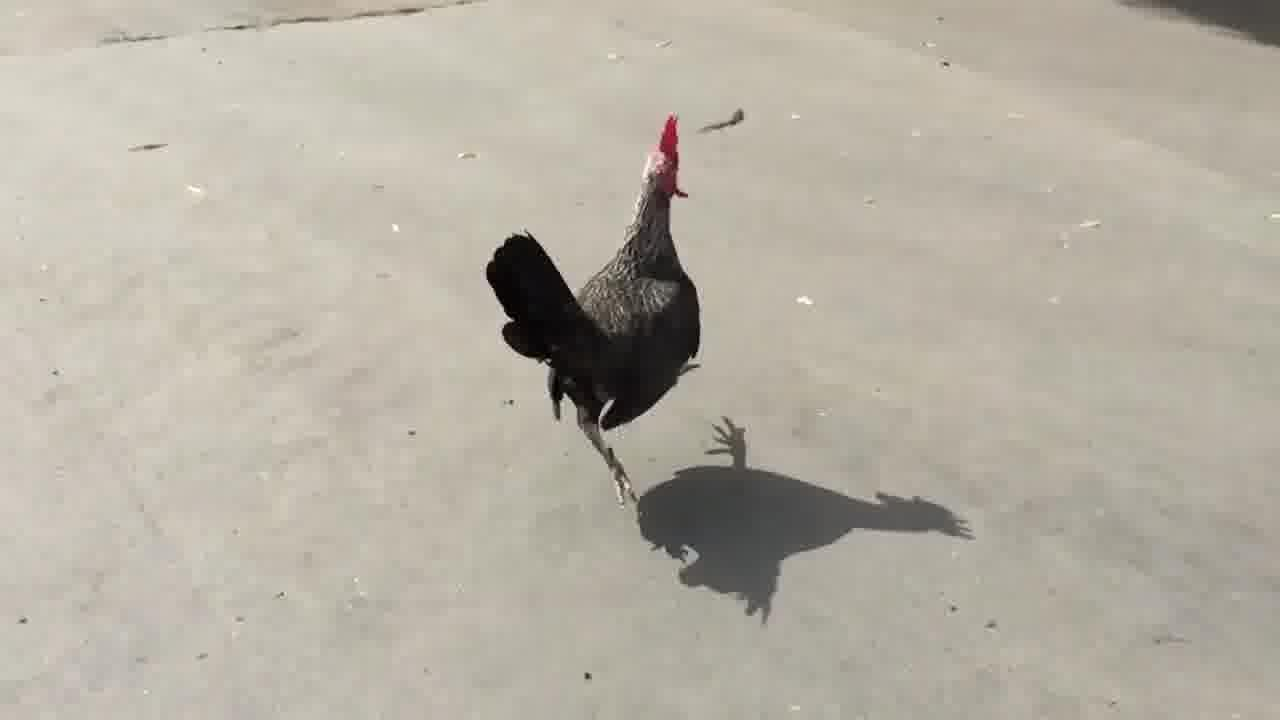Normal: (482, 116, 726, 486)
